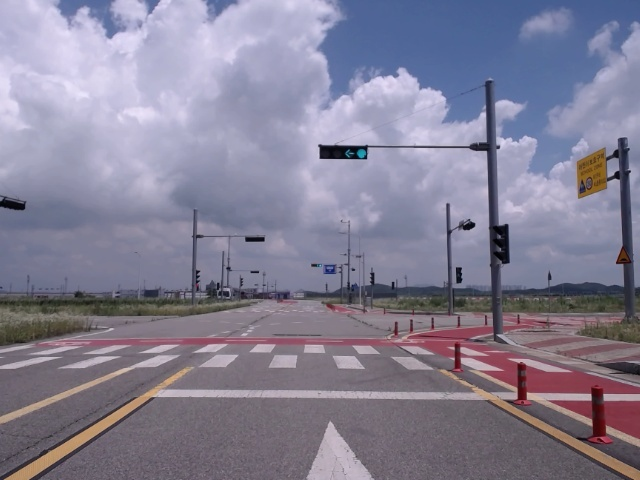all_green_4: (317, 143, 372, 160)
